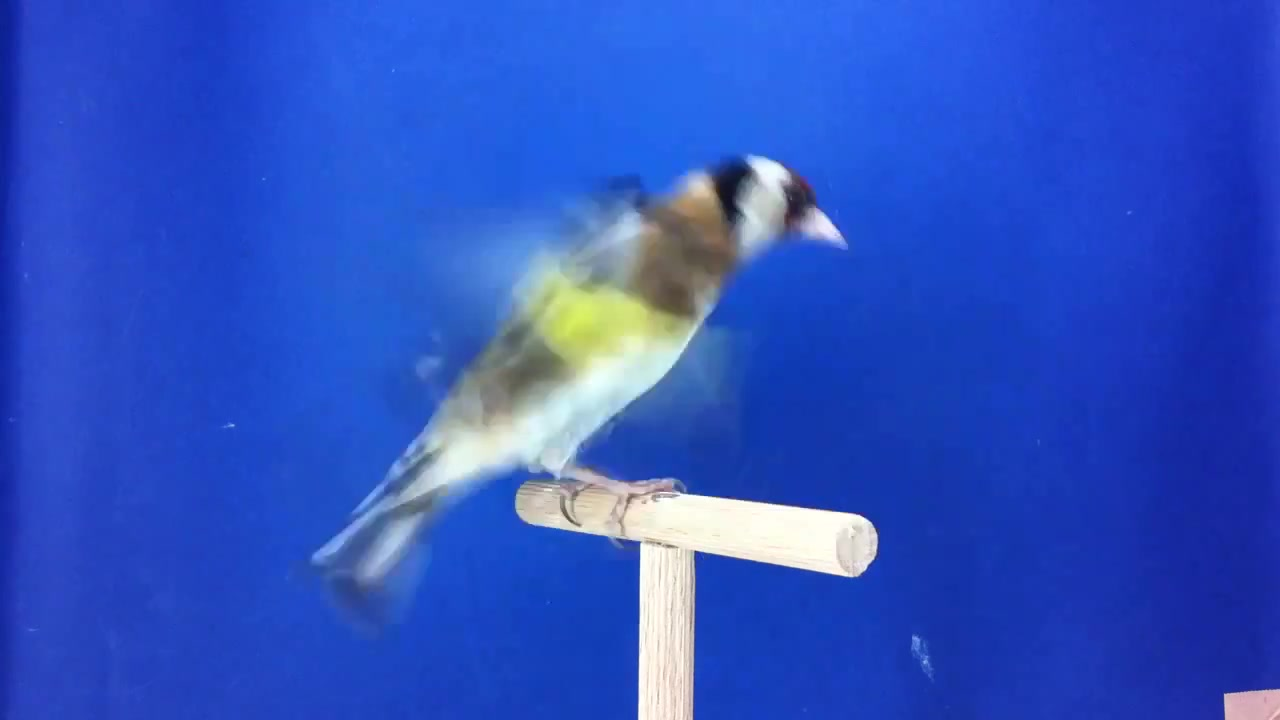bird: (309, 152, 852, 627)
